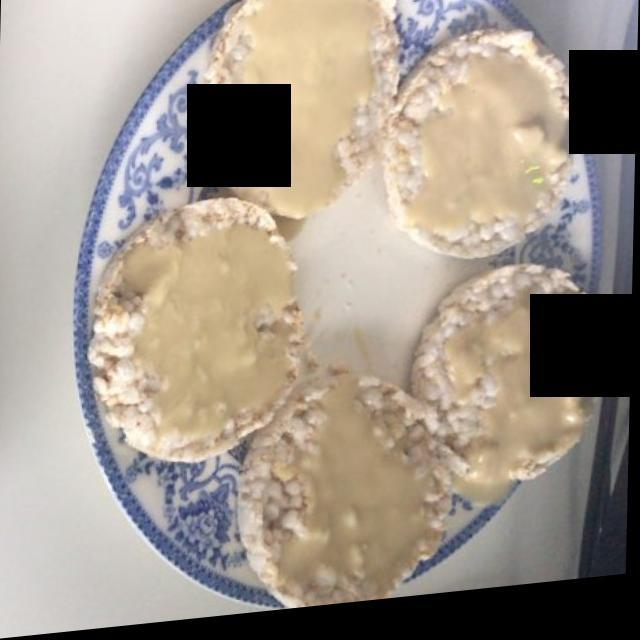rice: (74, 0, 593, 601)
